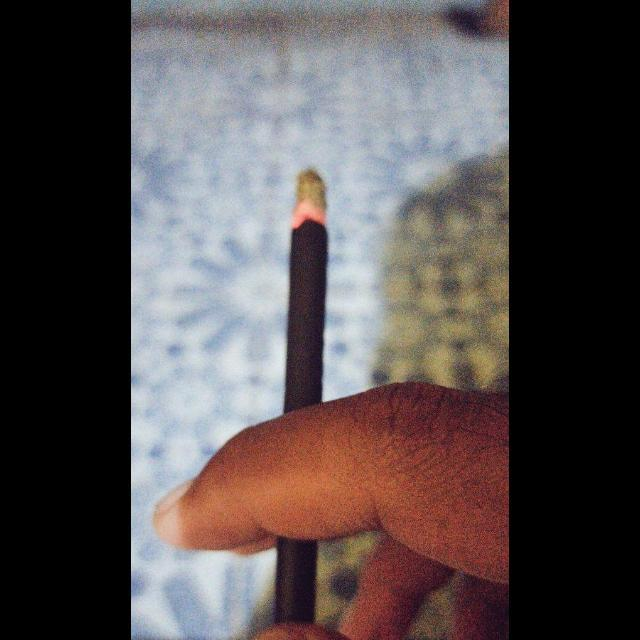rokok: (269, 163, 331, 625)
